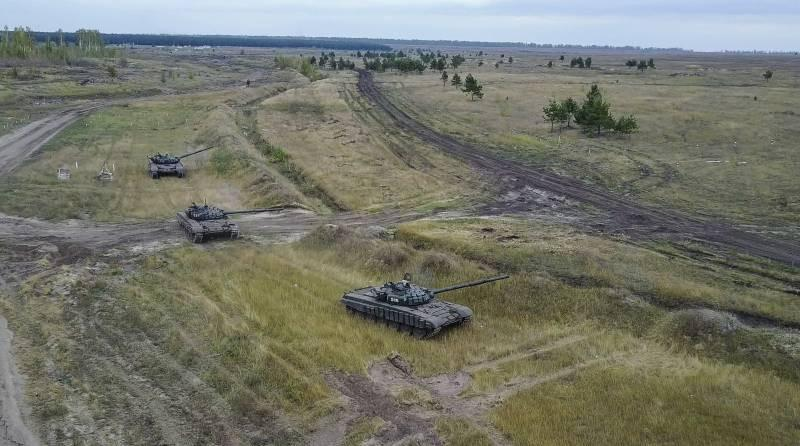tank: (340, 272, 509, 341), (176, 202, 284, 243), (148, 146, 213, 180)
